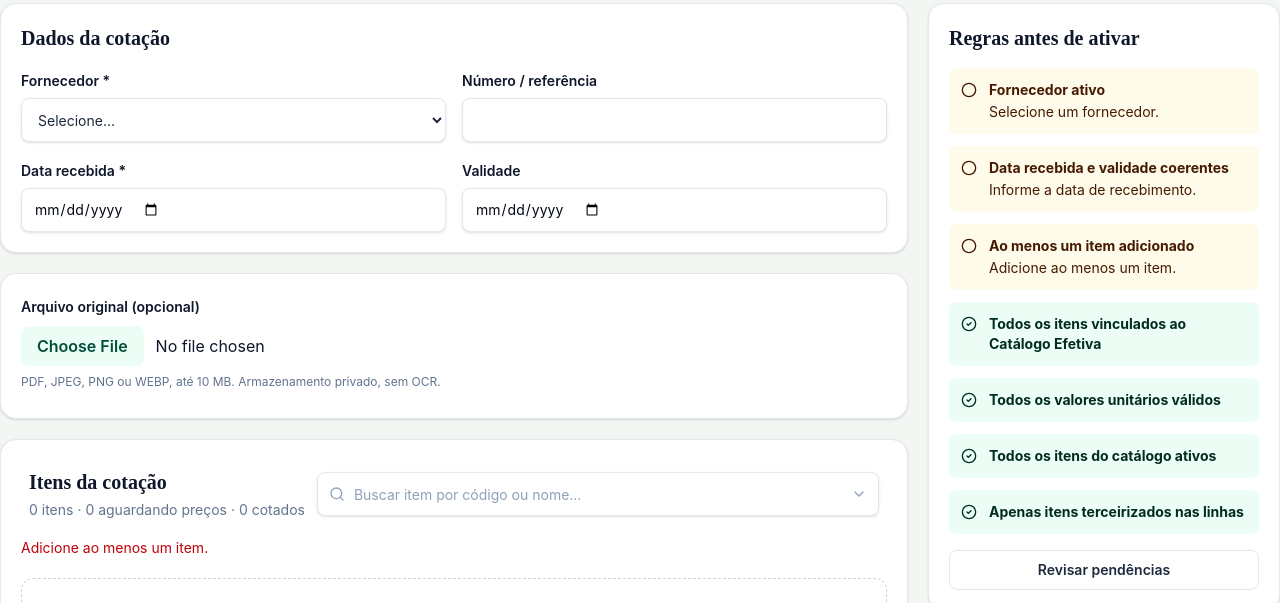
QuotationEditorPage › devolve o item para pendentes quando o preço é apagado
In the dropdown with placeholder "Buscar item por código ou nome...": (598, 494) [317, 472, 879, 516], type "Hemograma"
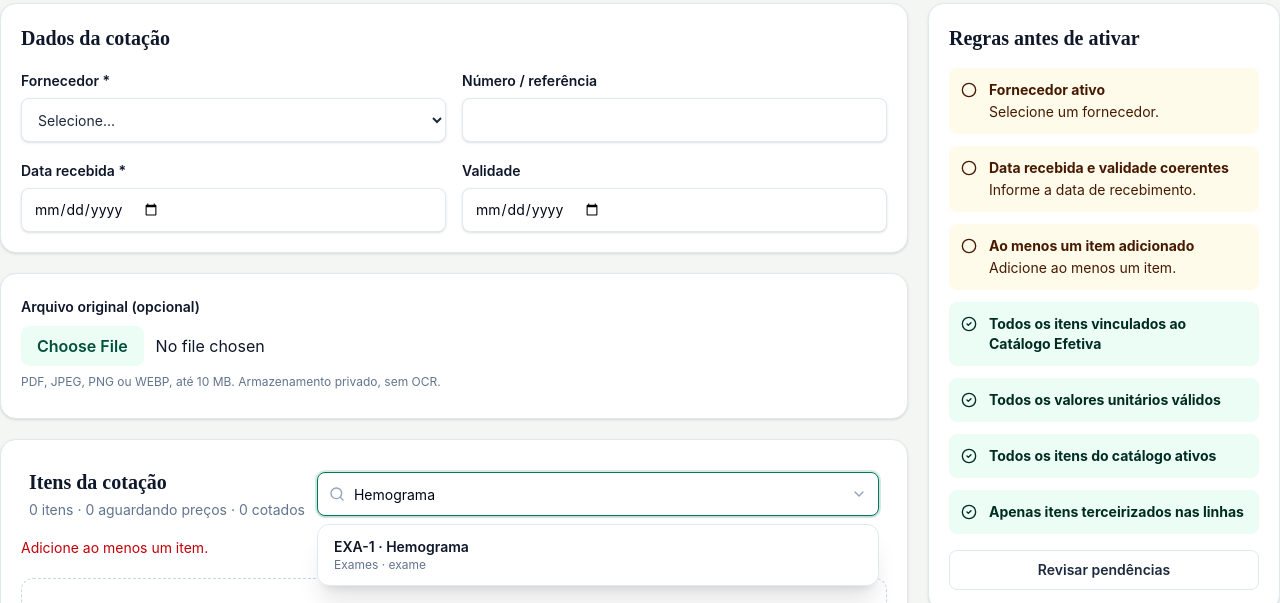
Click the option "EXA-1 · Hemograma Exames · exame": click(401, 546) [322, 529, 874, 581]
(page scrolled)
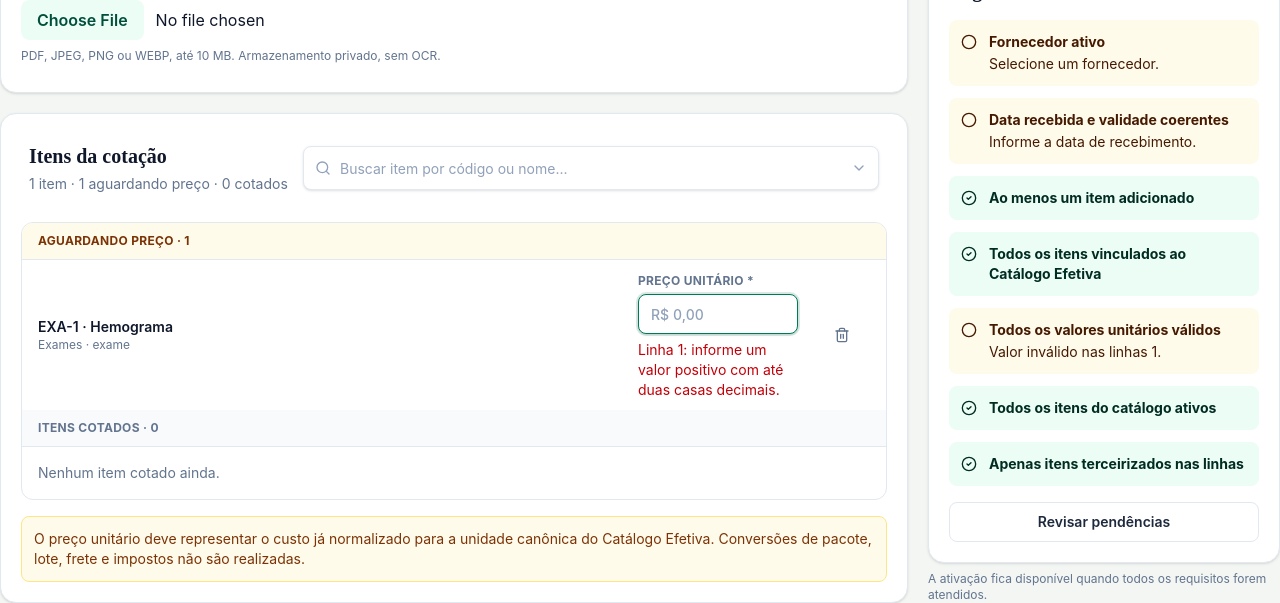
In the field labelled "Preço unitário *": (718, 314) [638, 294, 798, 334], type "1000"
(page scrolled)
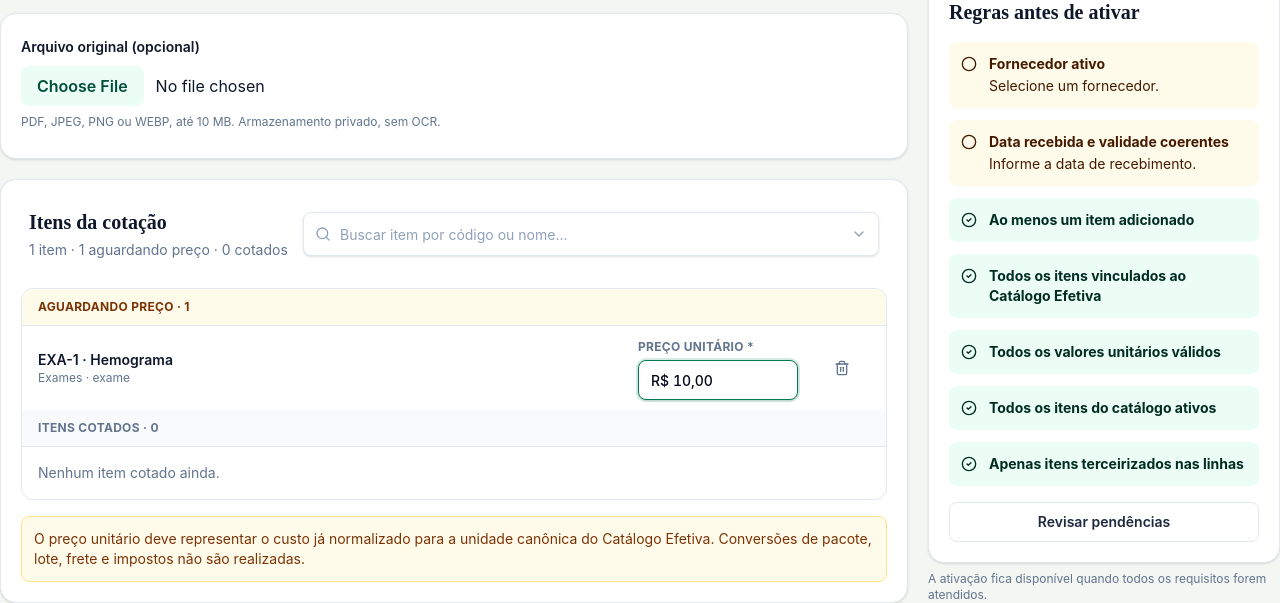
Press Enter
(page scrolled)
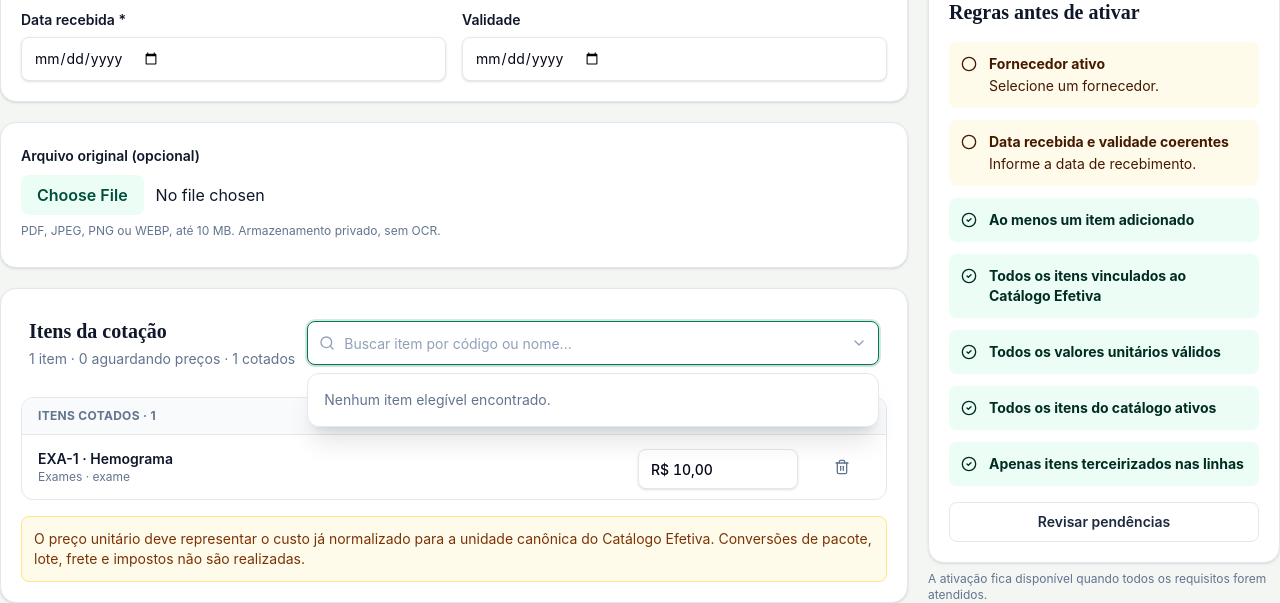
Clear the field named "Preço unitário *": (718, 469) [638, 449, 798, 489]
(page scrolled)
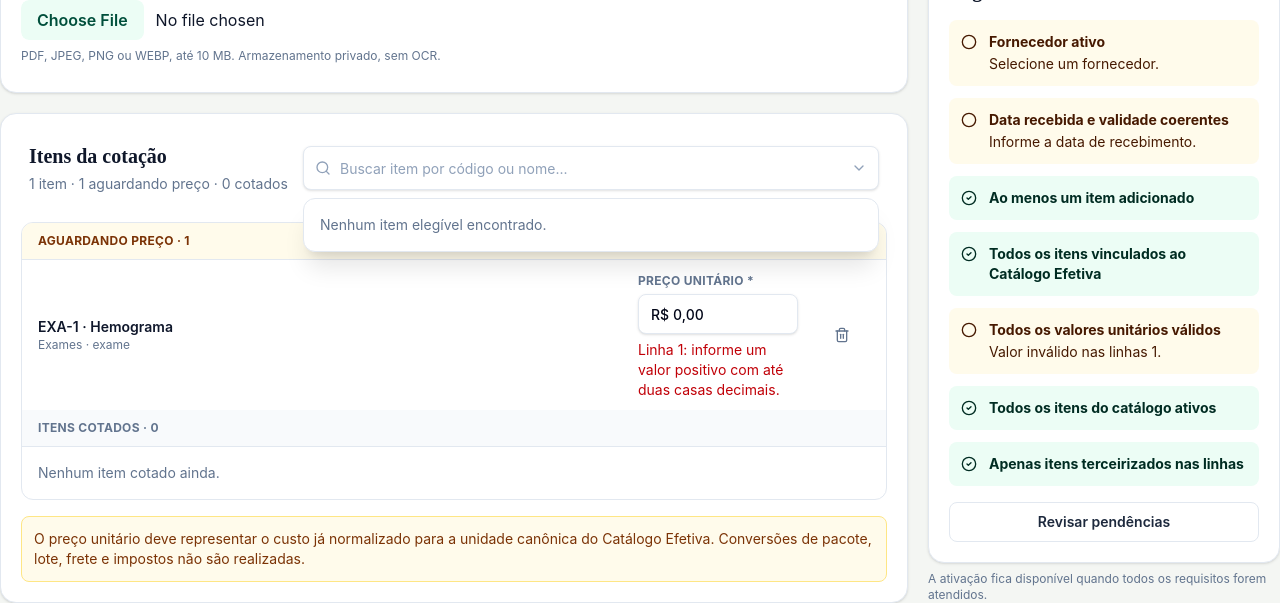
Now the element "Aguardando preço · 1" is shown, box [22, 223, 886, 410]
Now the element "Itens cotados · 0" is shown, box [22, 410, 886, 499]
